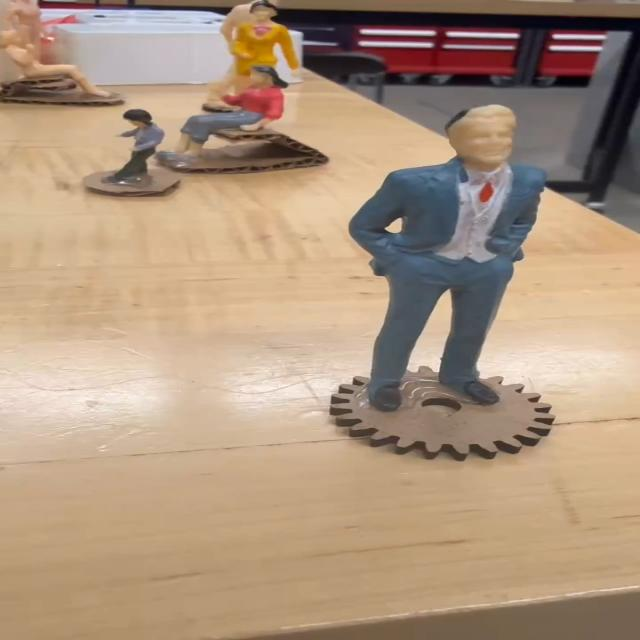Authorized: (338, 98, 558, 410)
